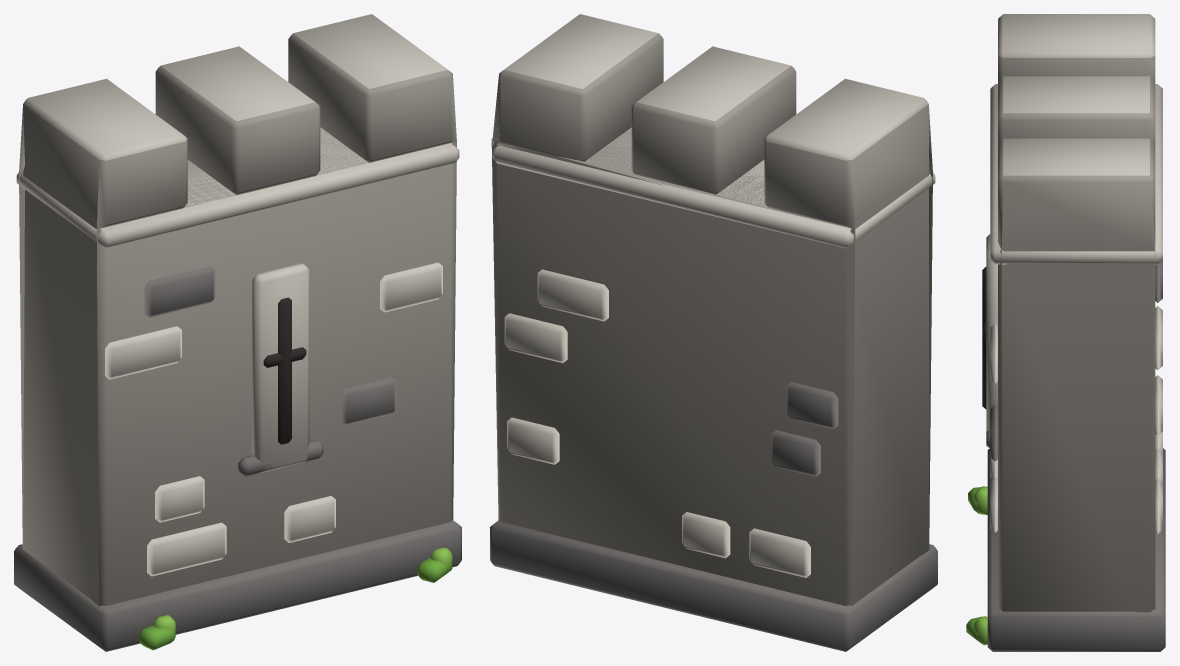
The model's file is B_MedArrowSlit.fbx.
3 views of the same model, side by side, from view 1: azimuth 30°, elevation 25°; view 2: azimuth 150°, elevation 25°; view 3: azimuth 270°, elevation 25° (orthographic). The views are drawn at different scales.
Visible parts, largest first — view 1: M_ArrowSlit; view 2: M_ArrowSlit; view 3: M_ArrowSlit.
Part boxes in pixels (x1=…): M_ArrowSlit: x1=14, y1=14, x2=461, y2=651; M_ArrowSlit: x1=490, y1=14, x2=937, y2=651; M_ArrowSlit: x1=966, y1=14, x2=1165, y2=651.
Bounding box in the file's own units: 3.07 × 4 × 1.52.
1 material, 1 textured.
